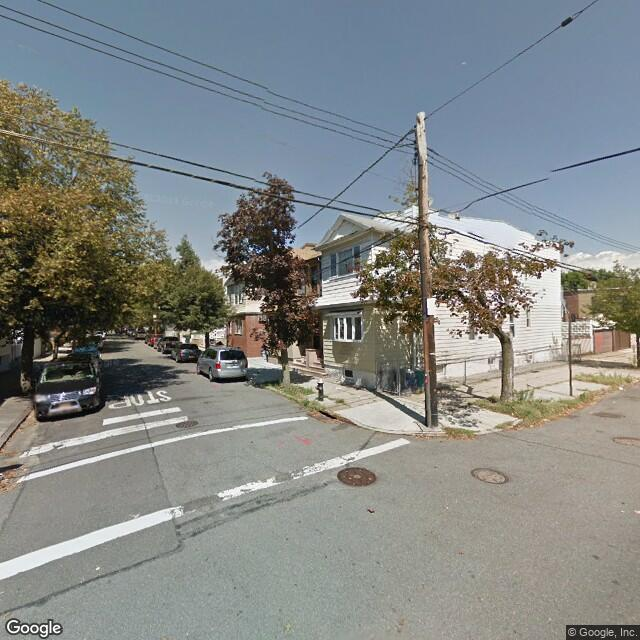litter: (1, 470, 18, 480), (615, 384, 629, 395), (536, 416, 556, 423)
